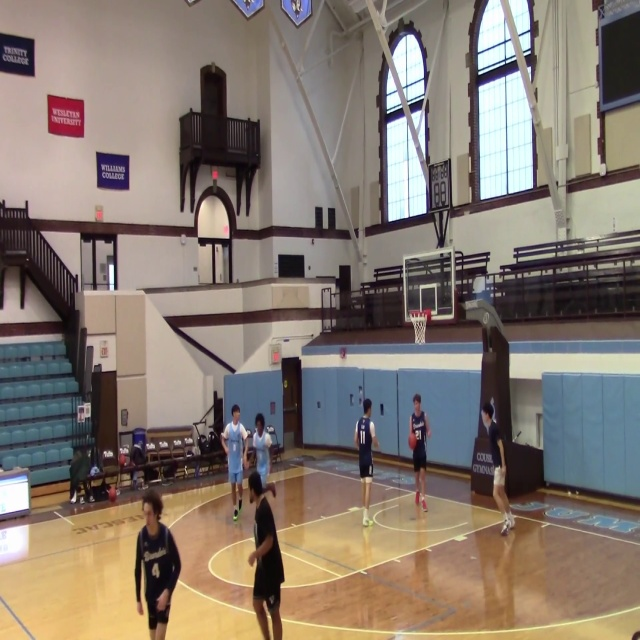Basketball: (246, 448, 256, 468), (408, 433, 417, 449)
